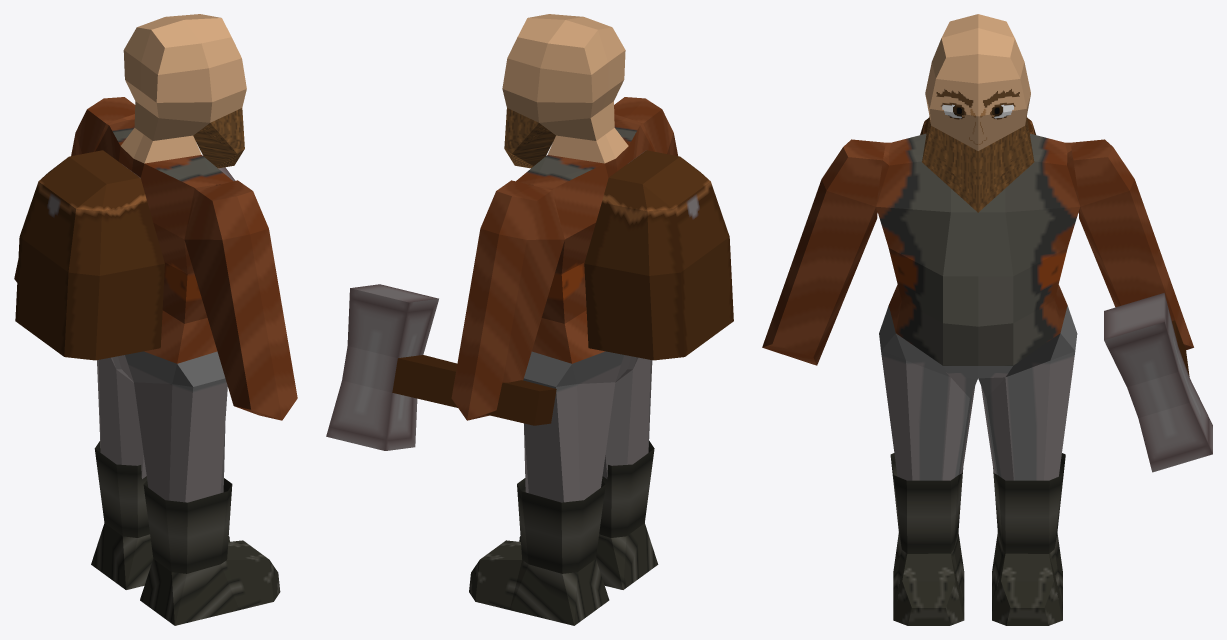
The model's file is Dwarf.fbx.
3 renders of one model, left to right at view 1: azimuth 30°, elevation 25°; view 2: azimuth 150°, elevation 25°; view 3: azimuth 270°, elevation 25°, orthographic.
Visible parts, largest first — view 1: Body; view 2: Body; view 3: Body.
Boxes of the visible parts, <box> form: Body: <box>14,14,297,625</box>; Body: <box>326,14,733,625</box>; Body: <box>762,14,1212,625</box>.
Bounding box in the file's own units: 74.42 × 150 × 108.
1 material, 1 textured.
